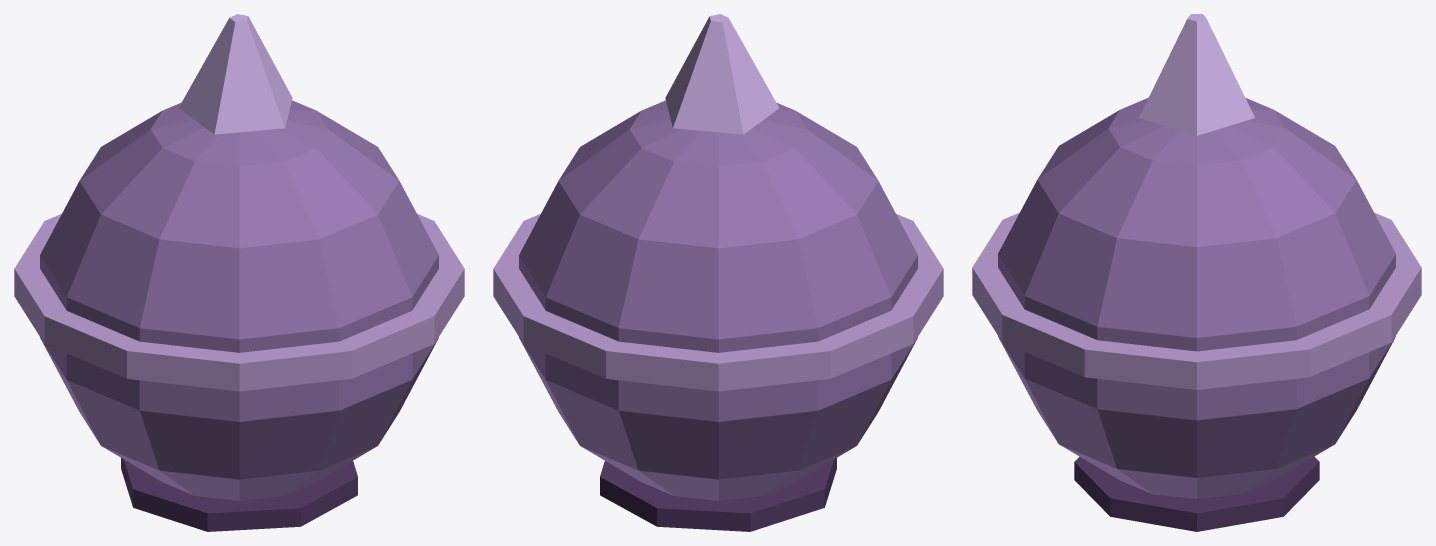
Rendered from umbrite_item_flat.glb.
3 views of the same model, side by side, from view 1: azimuth 30°, elevation 25°; view 2: azimuth 150°, elevation 25°; view 3: azimuth 270°, elevation 25° (orthographic).
Visible parts, largest first — view 1: ShadowOrb, GlowRing, Wisp, ShadowBase; view 2: ShadowOrb, GlowRing, Wisp, ShadowBase; view 3: ShadowOrb, GlowRing, ShadowBase, Wisp.
Part boxes in pixels (x1,y1,x2,y2): ShadowOrb: (40,100,438,500); GlowRing: (14,214,464,391); Wisp: (178,14,292,134); ShadowBase: (121,458,357,531); ShadowOrb: (519,100,917,500); GlowRing: (493,214,943,391); Wisp: (665,14,779,134); ShadowBase: (600,458,836,531); ShadowOrb: (998,98,1395,499); GlowRing: (972,212,1421,389); ShadowBase: (1074,456,1319,531); Wisp: (1139,14,1254,135).
Bounding box in the file's own units: 0.055 × 0.0625 × 0.055.
